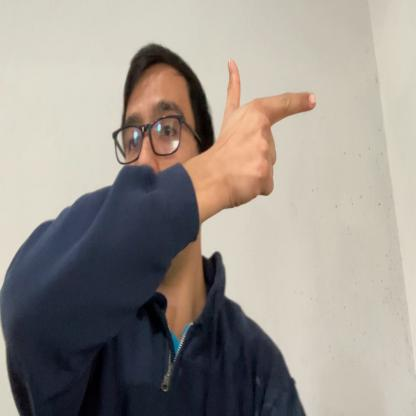G: (225, 57, 316, 210)
